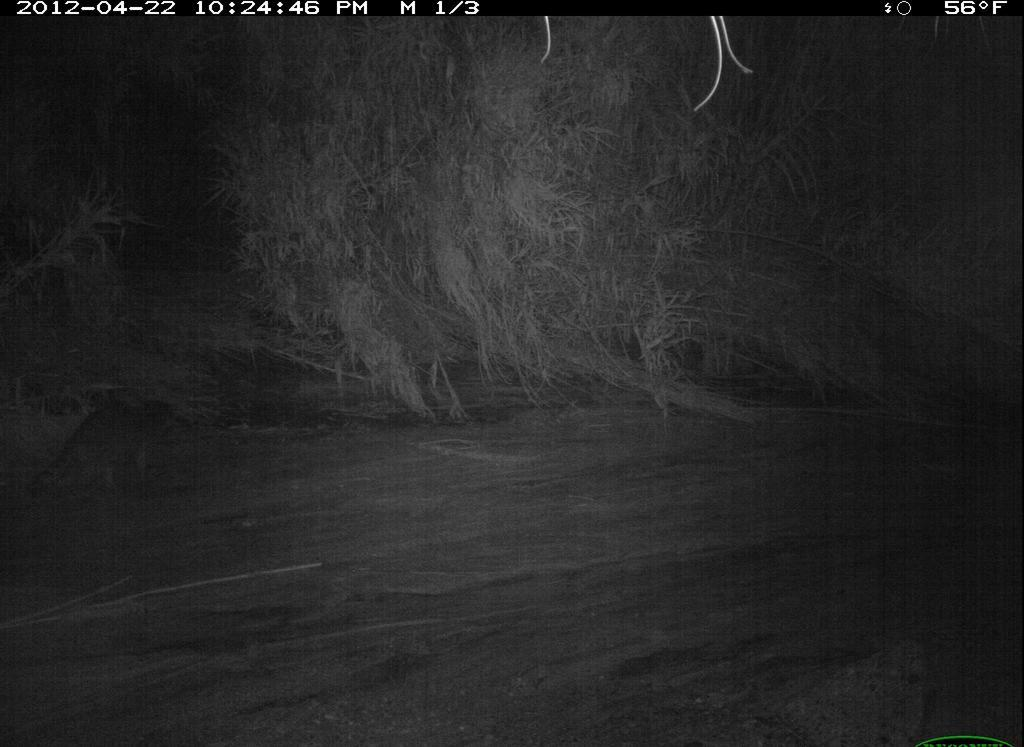raccoon: (33, 388, 189, 510)
